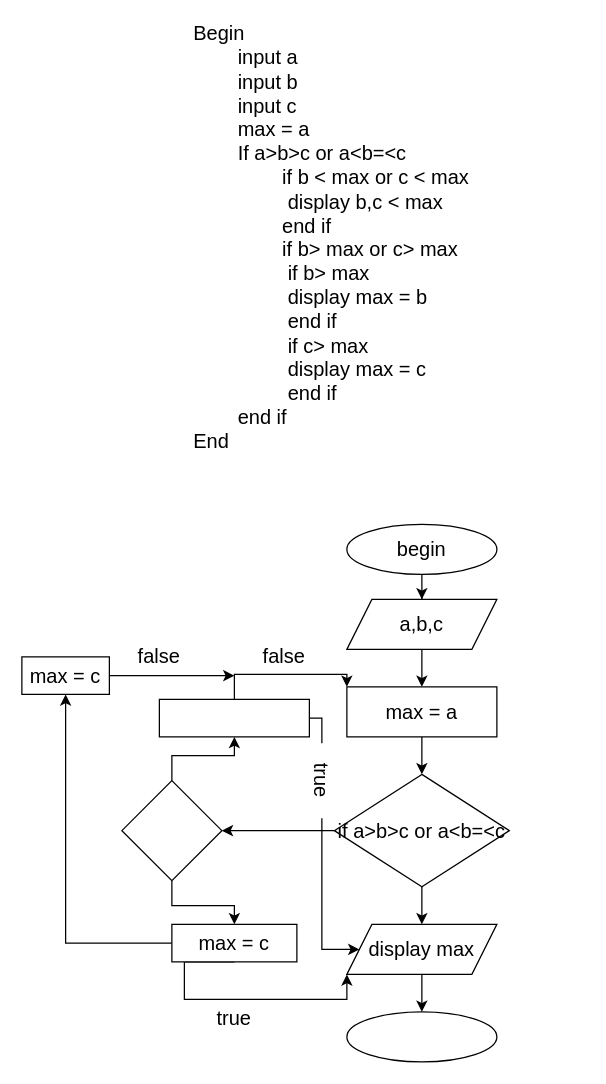
The diagram is 606 pixels wide and 1084 high, and some of its shapes have lost their labels. The shapes that lost their labels are listed below. From the top down, each one's centre as x and y in pixels, then its label:
At point 233,717: "max = b".
At point 171,830: "if b>max or c> max".
At point 421,1036: "end".
